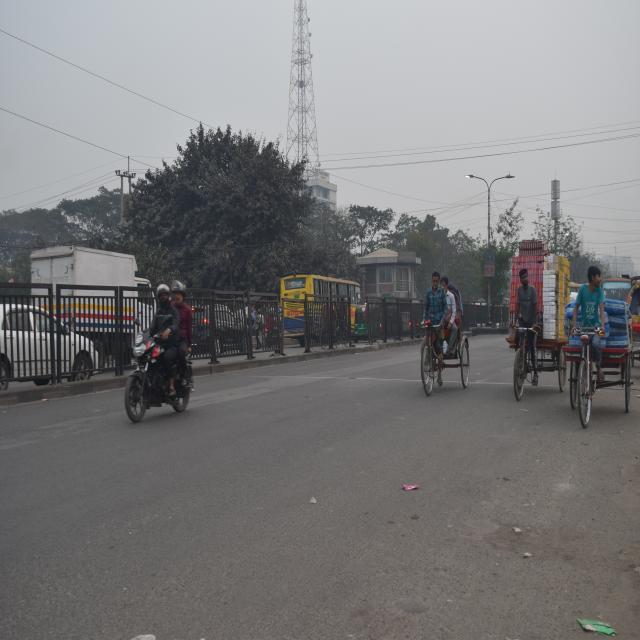bus: (278, 276, 359, 343), (602, 272, 634, 302)
car: (0, 303, 97, 391)
motorbike: (115, 331, 192, 422)
pickup-van: (35, 247, 155, 347)
